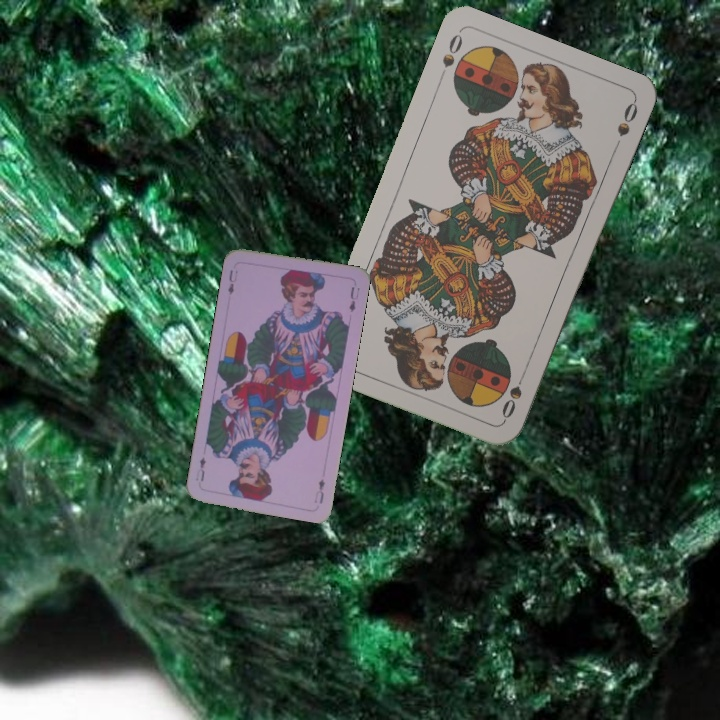EU: (224, 265, 240, 301), (310, 475, 327, 506)
SO: (497, 366, 529, 423), (438, 29, 466, 70)
